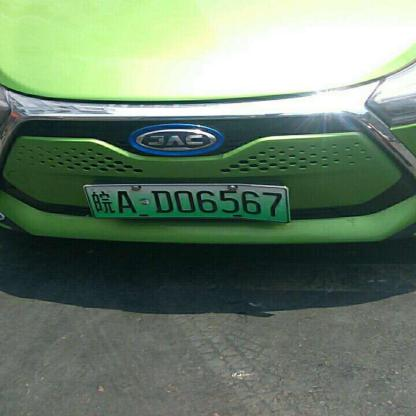lp: (82, 185, 290, 222)
